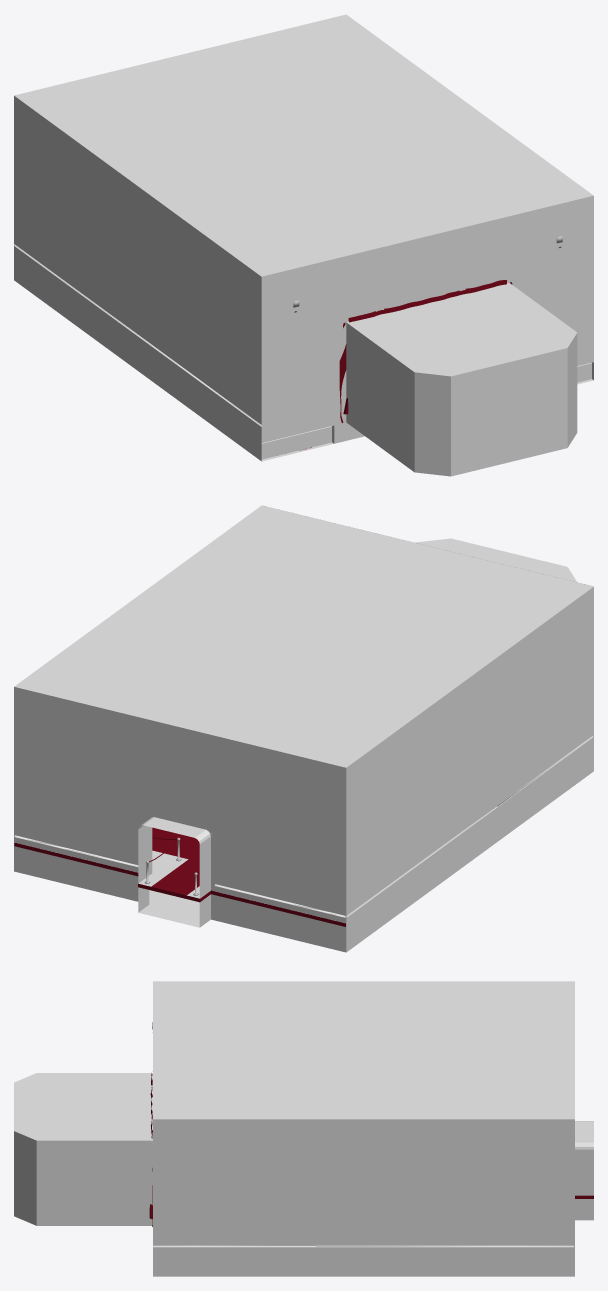
File: SmallHouse_Indoor.fbx
3 views of the same model, one above another, from view 1: azimuth 30°, elevation 25°; view 2: azimuth 150°, elevation 25°; view 3: azimuth 270°, elevation 25° (orthographic). The views are drawn at different scales.
Parts seen in each view (by area): view 1: 2ndOperaHouse; view 2: 2ndOperaHouse; view 3: 2ndOperaHouse.
Boxes of the visible parts, x1,y1,x2,y2 form: 2ndOperaHouse: (14, 14, 593, 476); 2ndOperaHouse: (14, 505, 593, 952); 2ndOperaHouse: (14, 981, 593, 1276).
Size of the model in its own units: 1617 by 860 by 2869.
